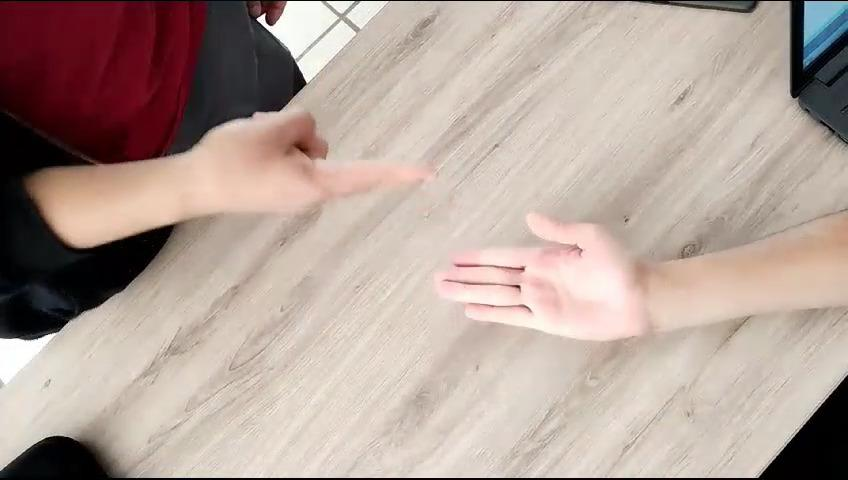Paper: (430, 210, 665, 359)
Scissor: (174, 88, 441, 233)
